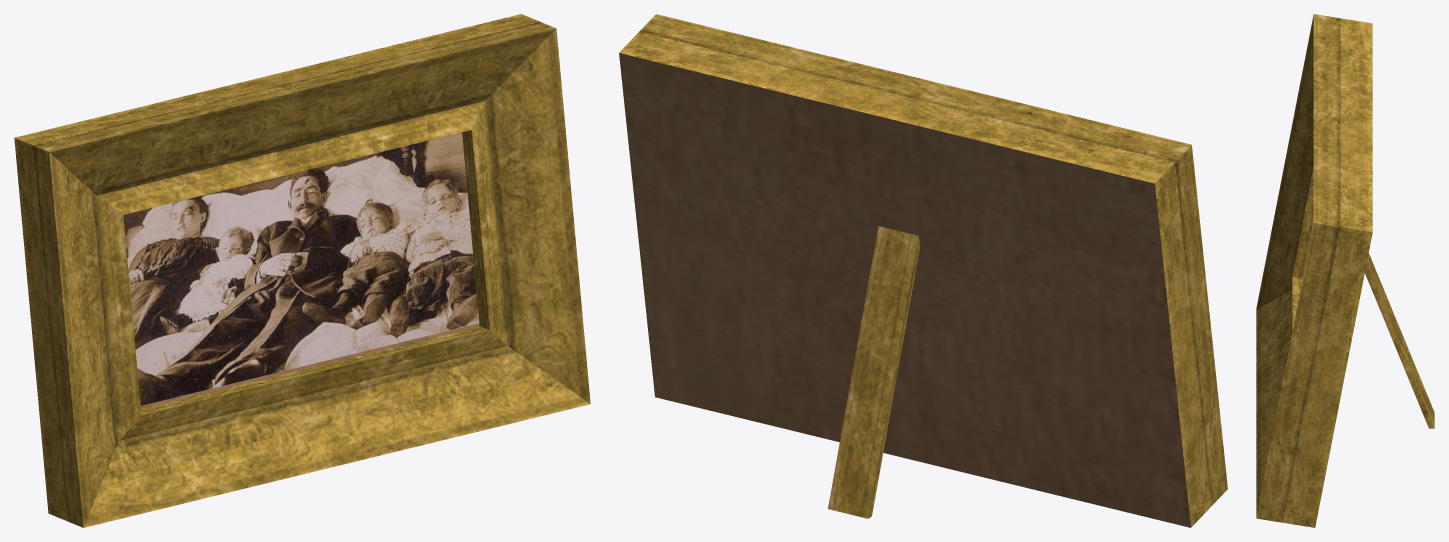
Rendered from picture_frame.DAE.
3 views of the same model, side by side, from view 1: azimuth 30°, elevation 25°; view 2: azimuth 150°, elevation 25°; view 3: azimuth 270°, elevation 25° (orthographic). The views are drawn at different scales.
Visible parts, largest first — view 1: Object001, Box003; view 2: Object001; view 3: Object001.
Part boxes in pixels (box(x1,y1,x2,y2)): Object001: box(14, 14, 590, 527); Box003: box(123, 132, 479, 405); Object001: box(619, 14, 1227, 527); Object001: box(1256, 14, 1434, 527).
Bounding box in the file's own units: 0.5009 × 0.1812 × 0.3416.
